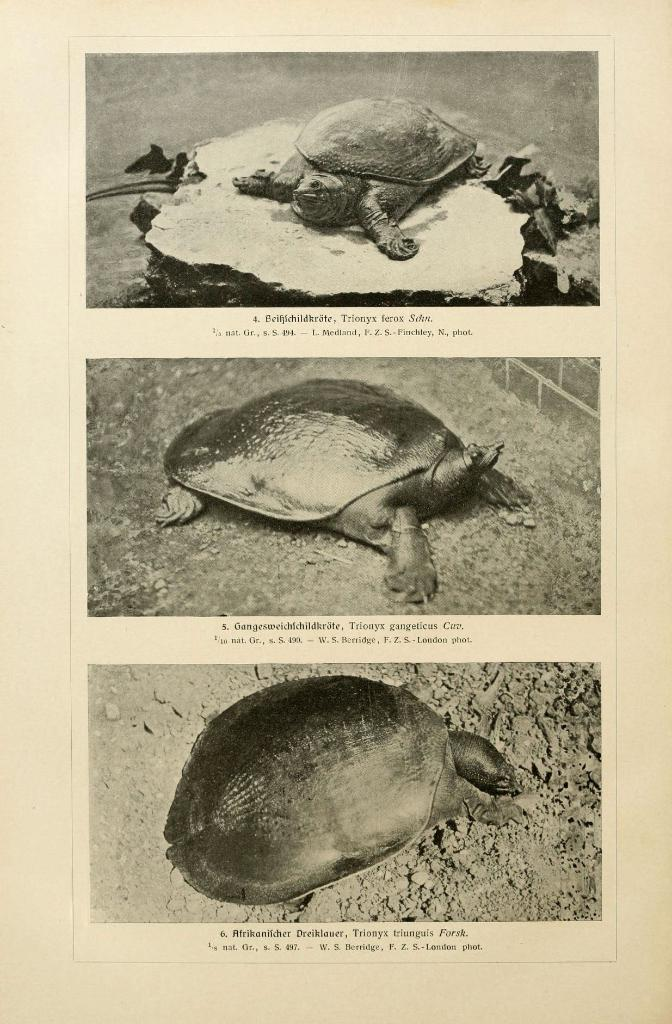Sea turtles: (156, 376, 536, 602), (151, 677, 517, 908), (228, 89, 491, 259)
